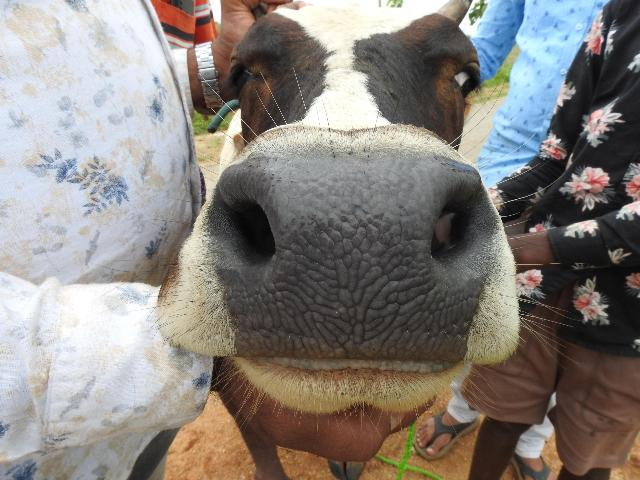Muzzle: (254, 149, 444, 359)
